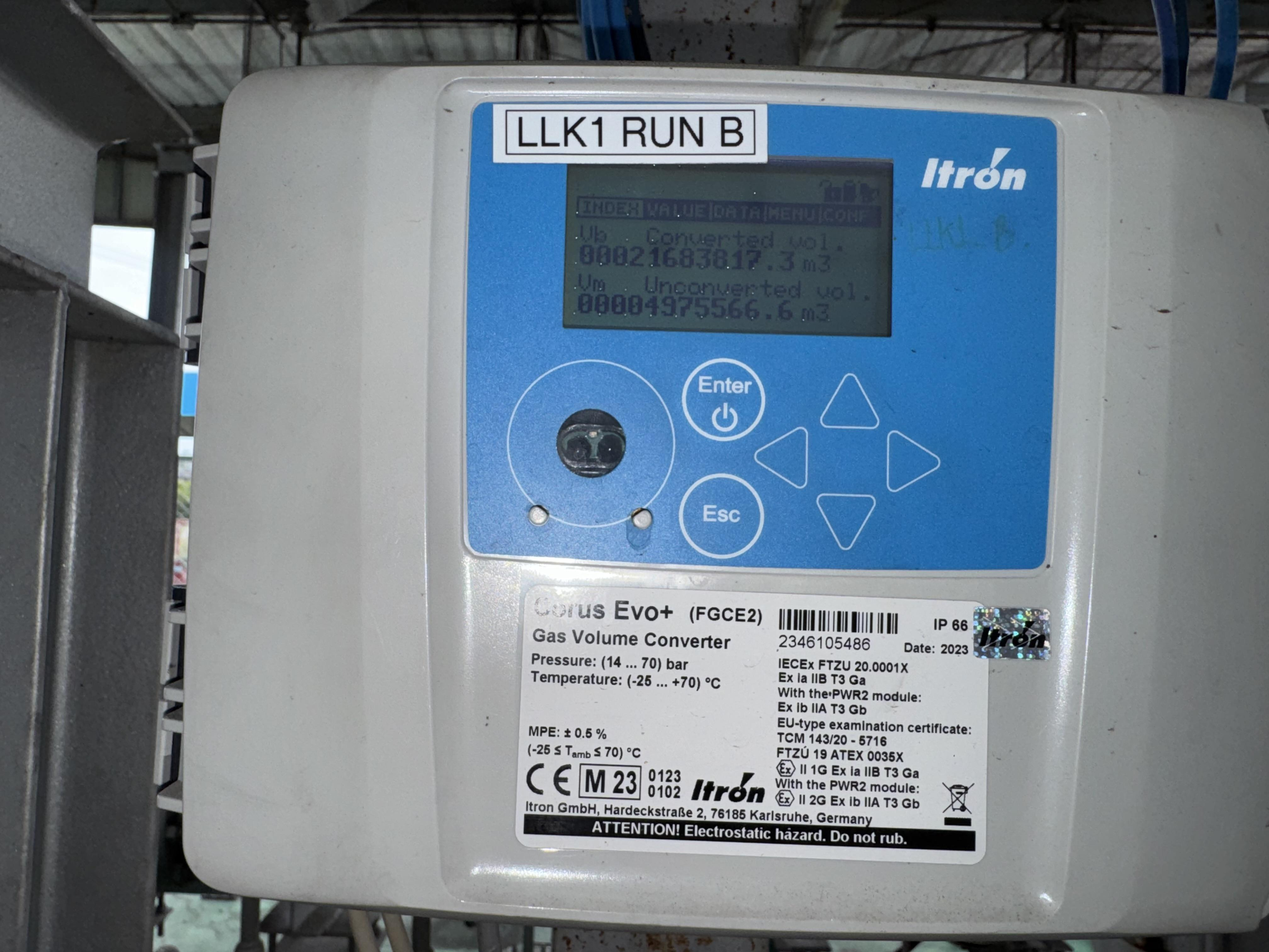digital_screen: (563, 152, 896, 336)
